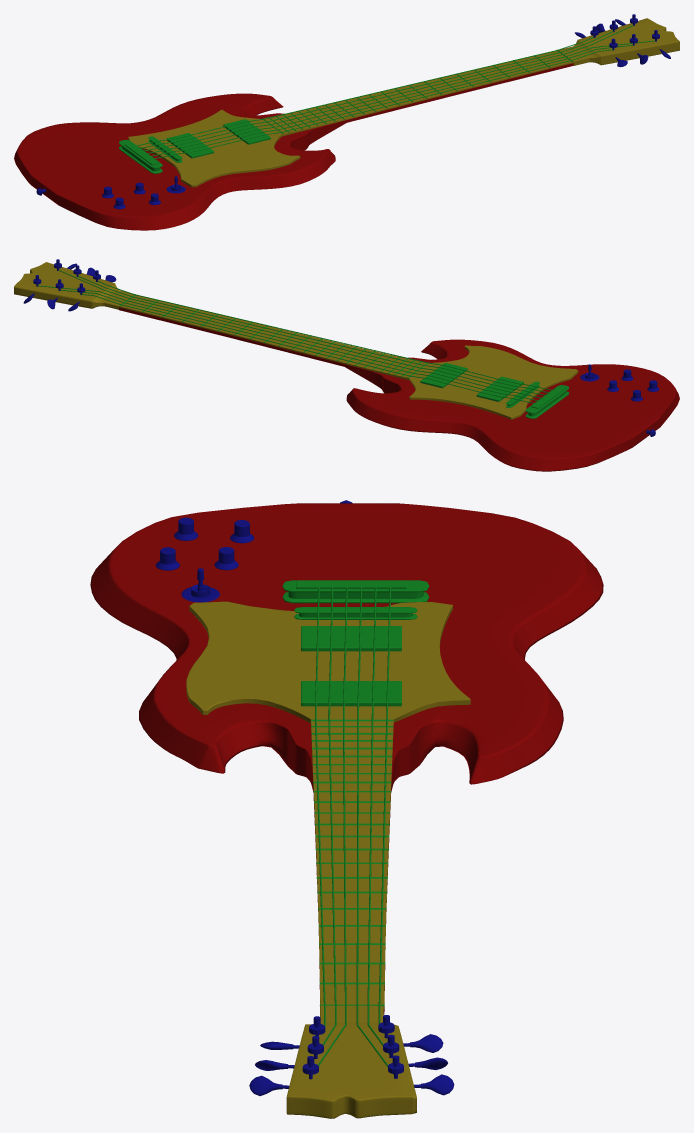
The picture shows the model from 3 angles, top to bottom: view 1: azimuth 30°, elevation 25°; view 2: azimuth 150°, elevation 25°; view 3: azimuth 270°, elevation 25°; orthographic projection. The views are drawn at different scales.
Parts seen in each view (by area): view 1: pCube19 (×4); view 2: pCube19 (×4); view 3: pCube19 (×4).
Boxes of the visible parts, x1,y1,x2,y2 form: pCube19 (×4): (14, 14, 679, 230); pCube19 (×4): (14, 259, 679, 471); pCube19 (×4): (90, 500, 603, 1118).
Bounding box in the file's own units: 2 × 0.1007 × 0.7077.
